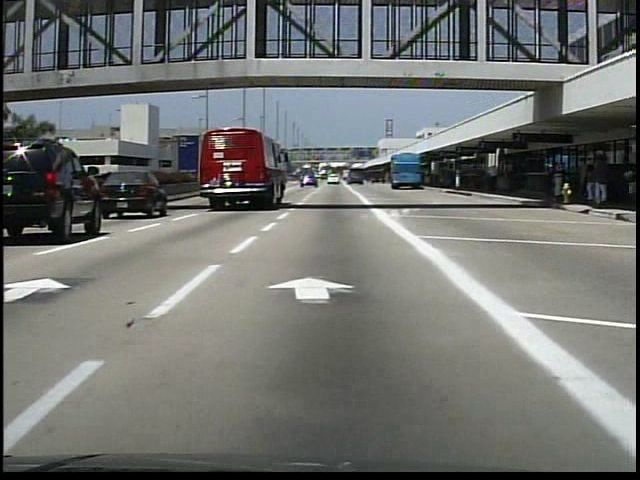person: (621, 164, 638, 204), (489, 164, 501, 192)
